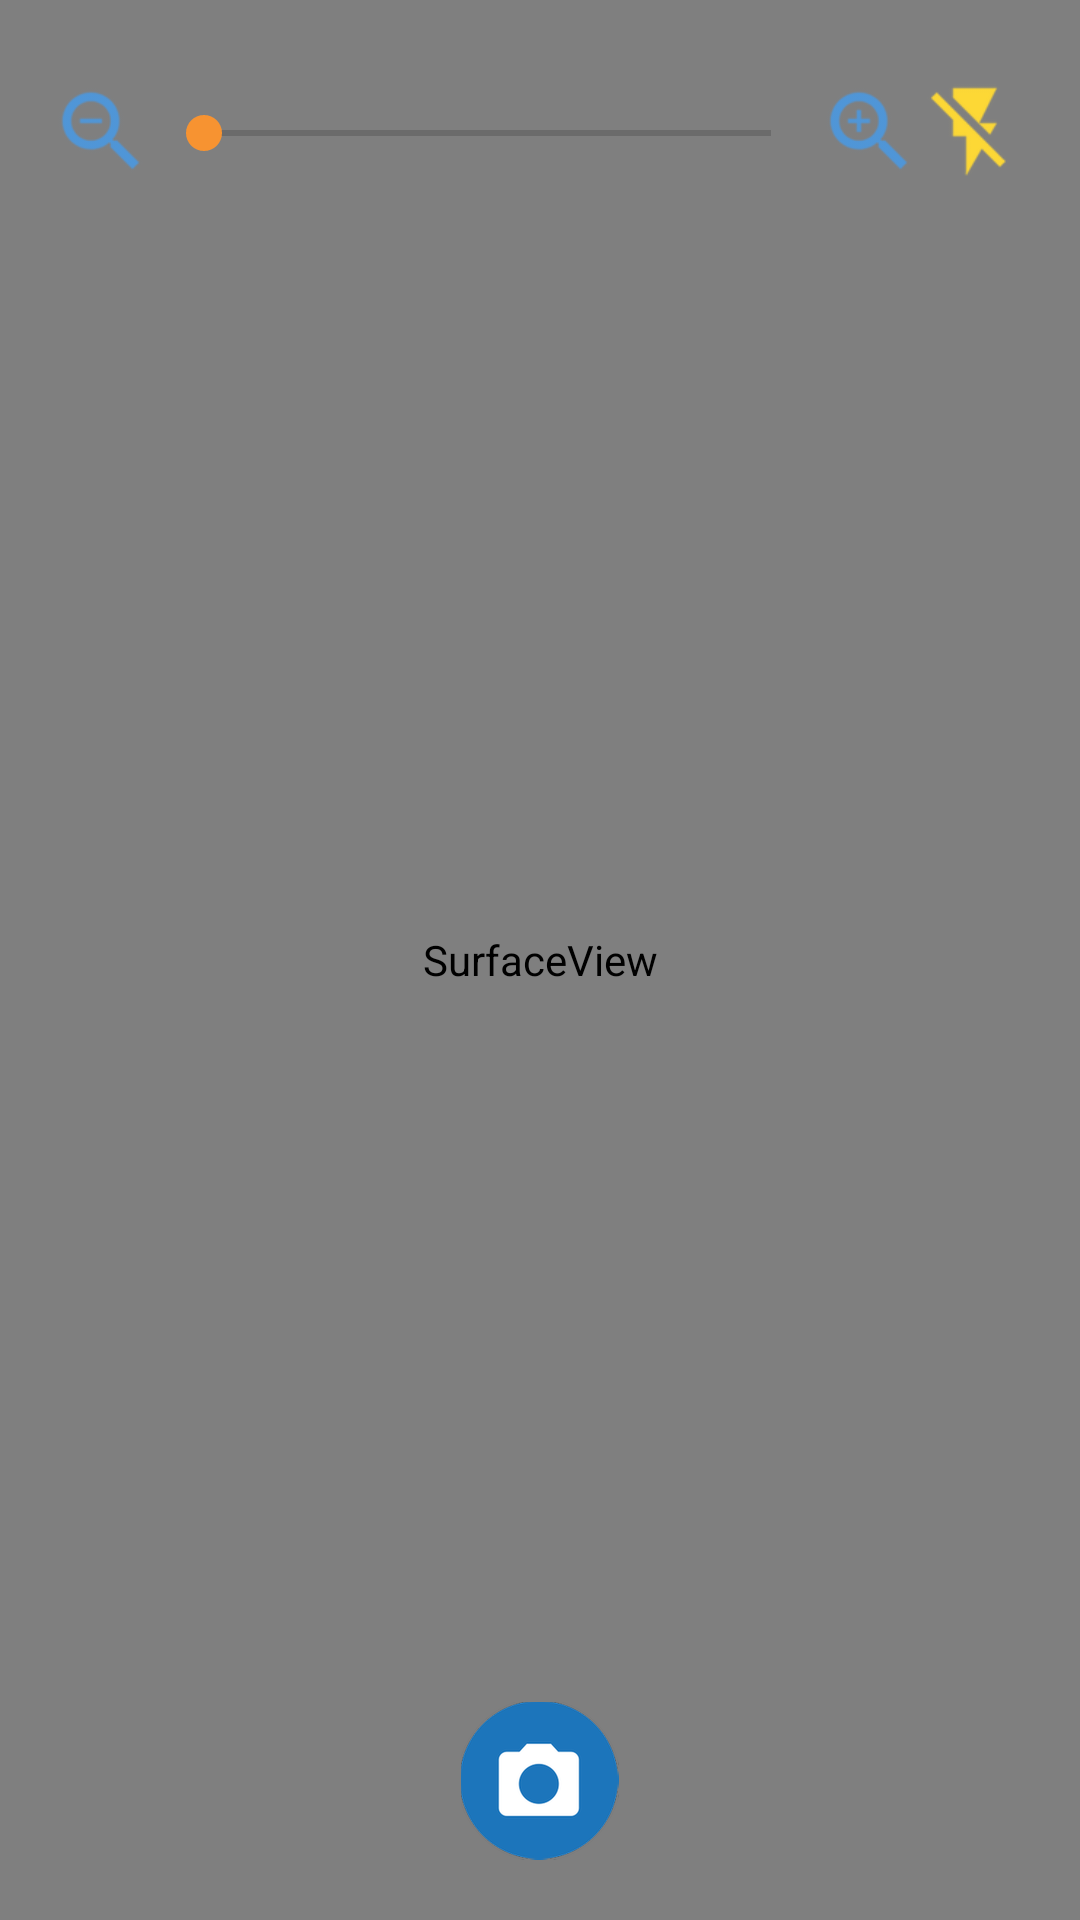

Named icons in this screenshot (1080×1920) and their centers, point (x, y):
flash off: point (968, 131)
snapshot: point (540, 1781)
zoom in: point (868, 130)
zoom out: point (100, 130)
